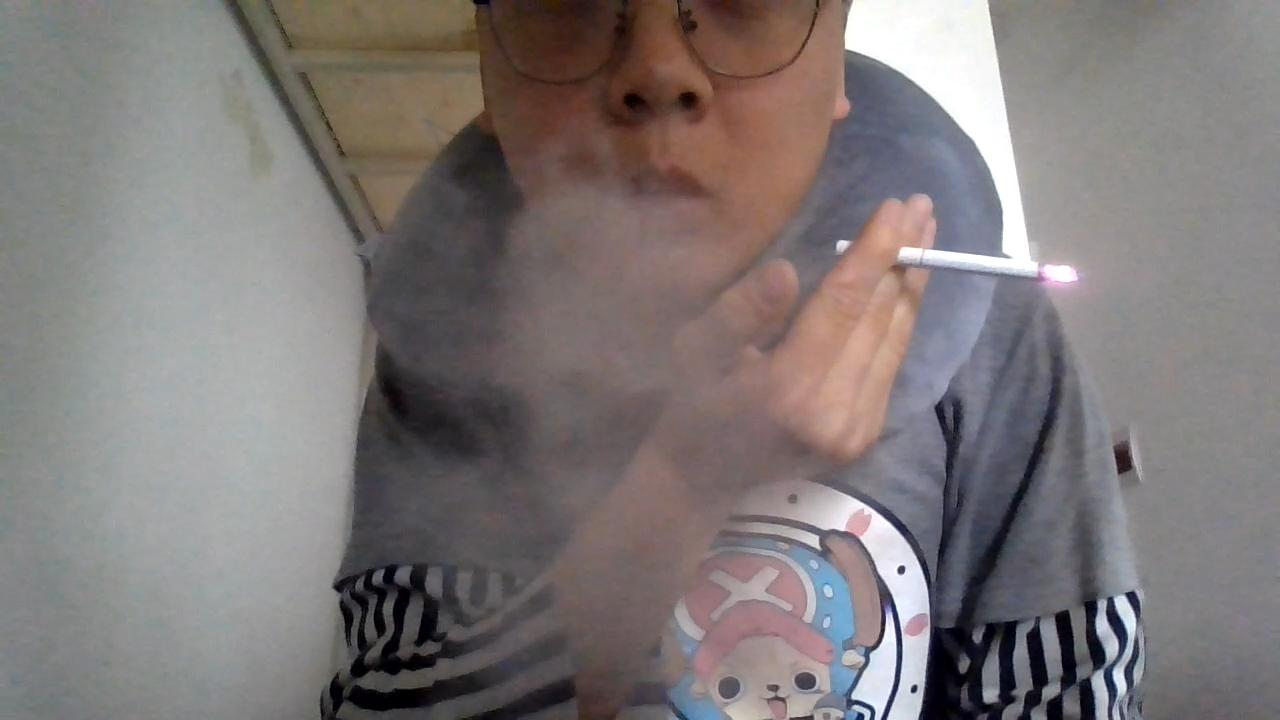yanwu: (375, 197, 755, 646)
